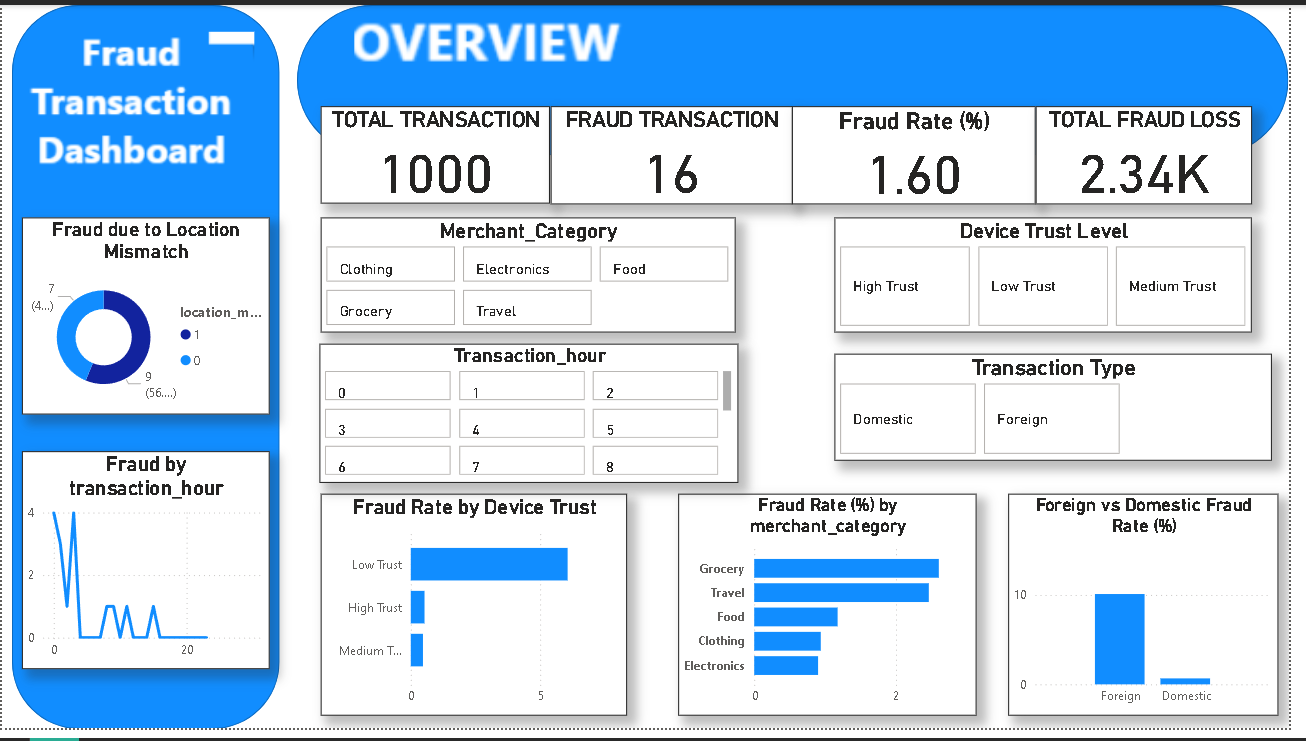

This screenshot's page, from the dashboard's own definition file:
{"tool":"powerbi","page":{"name":"Page 1","canvas":[1280,720],"ordinal":0},"visuals":[{"type":"shape","box":[9.6,0,266.2,720.4],"z":0},{"type":"shape","box":[286.1,0,984,149.3],"z":1000},{"type":"image","box":[345.6,0,277,75.6],"z":2000},{"type":"image","box":[19.6,18.2,236.5,163.7],"z":3000},{"type":"card","title":"TOTAL TRANSACTION","fields":{"Values":["Count(fintech_transactions_clean.transaction_id)"]},"box":[317.6,100.7,228.1,96.5],"z":3001},{"type":"card","title":"FRAUD TRANSACTION","fields":{"Values":["Sum(fintech_transactions_clean.is_fraud)"]},"box":[545.7,100.7,240.7,97.9],"z":3002},{"type":"card","title":"Fraud Rate (%)","fields":{"Values":["fintech_transactions_clean.Fraud Rate (%)"]},"box":[786.4,100.7,242.1,97.9],"z":3003},{"type":"card","title":"TOTAL FRAUD LOSS","fields":{"Values":["fintech_transactions_clean.Total Fraud Loss"]},"box":[1028.8,100.8,226.4,98.3],"z":3004},{"type":"clusteredBarChart","title":"Fraud Rate (%) by merchant_category","fields":{"Y":["fintech_transactions_clean.Fraud Rate (%)"],"Category":["fintech_transactions_clean.merchant_category"]},"box":[673,486.9,296.6,221.1],"z":3005},{"type":"clusteredColumnChart","title":"Foreign vs Domestic Fraud Rate (%)","fields":{"Category":["fintech_transactions_clean.Transaction Type"],"Y":["fintech_transactions_clean.Fraud Rate (%)"]},"box":[1001.8,486.9,268.6,221.1],"z":3006},{"type":"donutChart","title":"Fraud due to Location Mismatch","fields":{"Category":["fintech_transactions_clean.location_mismatch"],"Y":["fintech_transactions_clean.Fraud Transactions"]},"box":[19.6,211.3,246.3,195.9],"z":3007},{"type":"barChart","title":"Fraud Rate by Device Trust","fields":{"Category":["fintech_transactions_clean.Device Trust Level"],"Y":["fintech_transactions_clean.Fraud Rate (%)"]},"box":[317.6,486.9,305,221.1],"z":3008},{"type":"lineChart","title":"Fraud by  transaction_hour","fields":{"Category":["fintech_transactions_clean.transaction_hour"],"Y":["fintech_transactions_clean.Fraud Transactions"]},"box":[19.6,443.6,246.3,216.9],"z":3009},{"type":"advancedSlicerVisual","title":"Merchant_Category","fields":{"Values":["fintech_transactions_clean.merchant_category"]},"box":[317.2,211.5,415.5,114.4],"z":3010},{"type":"advancedSlicerVisual","title":"Transaction_hour","fields":{"Values":["fintech_transactions_clean.transaction_hour"]},"box":[316.2,337.2,417,138.5],"z":3011},{"type":"advancedSlicerVisual","fields":{"Values":["fintech_transactions_clean.Transaction Type"]},"box":[828.5,347.1,426.7,105.7],"z":3012},{"type":"advancedSlicerVisual","fields":{"Values":["fintech_transactions_clean.Device Trust Level"]},"box":[828.5,211.5,426.7,114.4],"z":3013}]}

Visuals, with their boxes in screenshot pixels (x1, y1, x2, y2), scaled from the page's 1280x720 canvas onto the 1306x741 screenshot:
shape: [left=10, top=0, right=281, bottom=740]
shape: [left=292, top=0, right=1296, bottom=154]
image: [left=353, top=0, right=635, bottom=78]
image: [left=20, top=19, right=261, bottom=187]
"TOTAL TRANSACTION" card: [left=324, top=104, right=557, bottom=203]
"FRAUD TRANSACTION" card: [left=557, top=104, right=802, bottom=204]
"Fraud Rate (%)" card: [left=802, top=104, right=1049, bottom=204]
"TOTAL FRAUD LOSS" card: [left=1050, top=104, right=1281, bottom=205]
"Fraud Rate (%) by merchant_category" clusteredBarChart: [left=687, top=501, right=989, bottom=729]
"Foreign vs Domestic Fraud Rate (%)" clusteredColumnChart: [left=1022, top=501, right=1296, bottom=729]
"Fraud due to Location Mismatch" donutChart: [left=20, top=217, right=271, bottom=419]
"Fraud Rate by Device Trust" barChart: [left=324, top=501, right=635, bottom=729]
"Fraud by  transaction_hour" lineChart: [left=20, top=457, right=271, bottom=680]
"Merchant_Category" advancedSlicerVisual: [left=324, top=218, right=748, bottom=335]
"Transaction_hour" advancedSlicerVisual: [left=323, top=347, right=748, bottom=490]
advancedSlicerVisual - fintech_transactions_clean.Transaction Type: [left=845, top=357, right=1281, bottom=466]
advancedSlicerVisual - fintech_transactions_clean.Device Trust Level: [left=845, top=218, right=1281, bottom=335]
